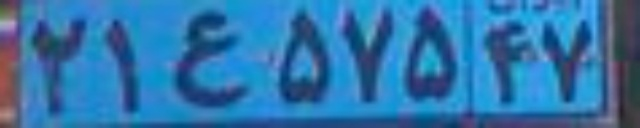1: (96, 17, 143, 118)
2: (23, 19, 87, 116)
4: (474, 23, 534, 106)
5: (404, 6, 457, 103), (278, 12, 332, 104)
7: (537, 16, 600, 105), (342, 6, 392, 103)
ain: (168, 11, 250, 109)
